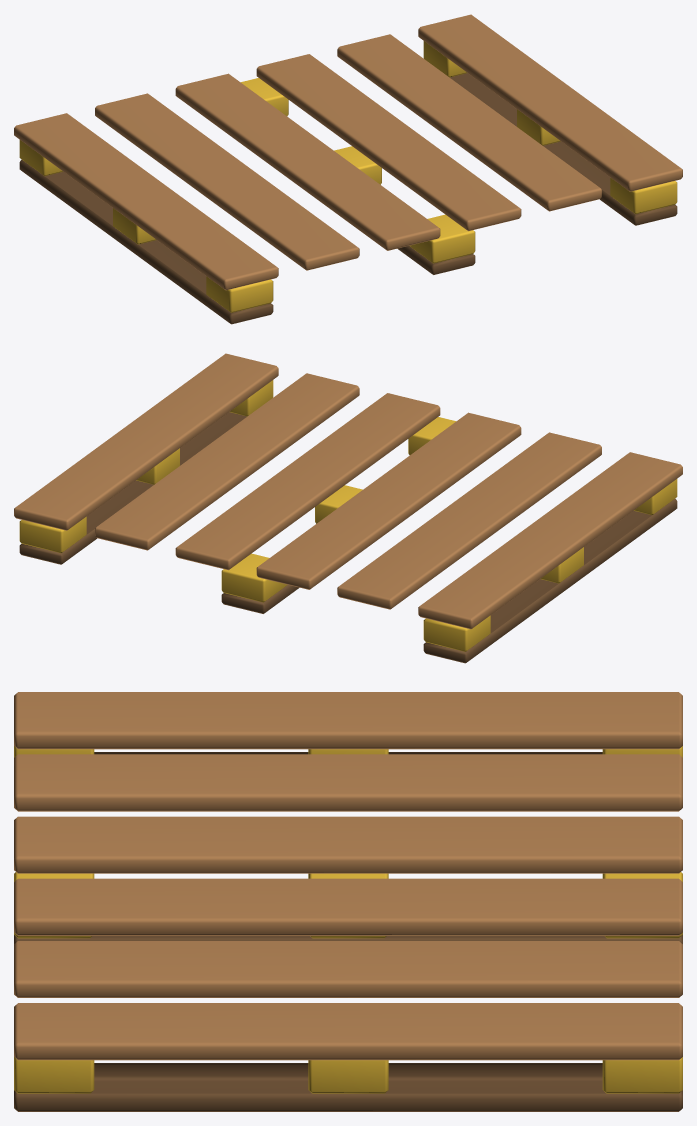
Rendered from Pallet_01.glb.
The picture shows the model from 3 angles, top to bottom: view 1: azimuth 30°, elevation 25°; view 2: azimuth 150°, elevation 25°; view 3: azimuth 270°, elevation 25°; orthographic projection. The views are drawn at different scales.
Parts seen in each view (by area): view 1: SM_Pallet_01; view 2: SM_Pallet_01; view 3: SM_Pallet_01.
Part boxes in pixels (<box>): SM_Pallet_01: <box>14,14,682,324</box>; SM_Pallet_01: <box>14,353,682,663</box>; SM_Pallet_01: <box>14,692,682,1111</box>.
Size of the model in its own units: 1.25 by 0.122 by 1.
Materials: 1 (1 with a texture image).
